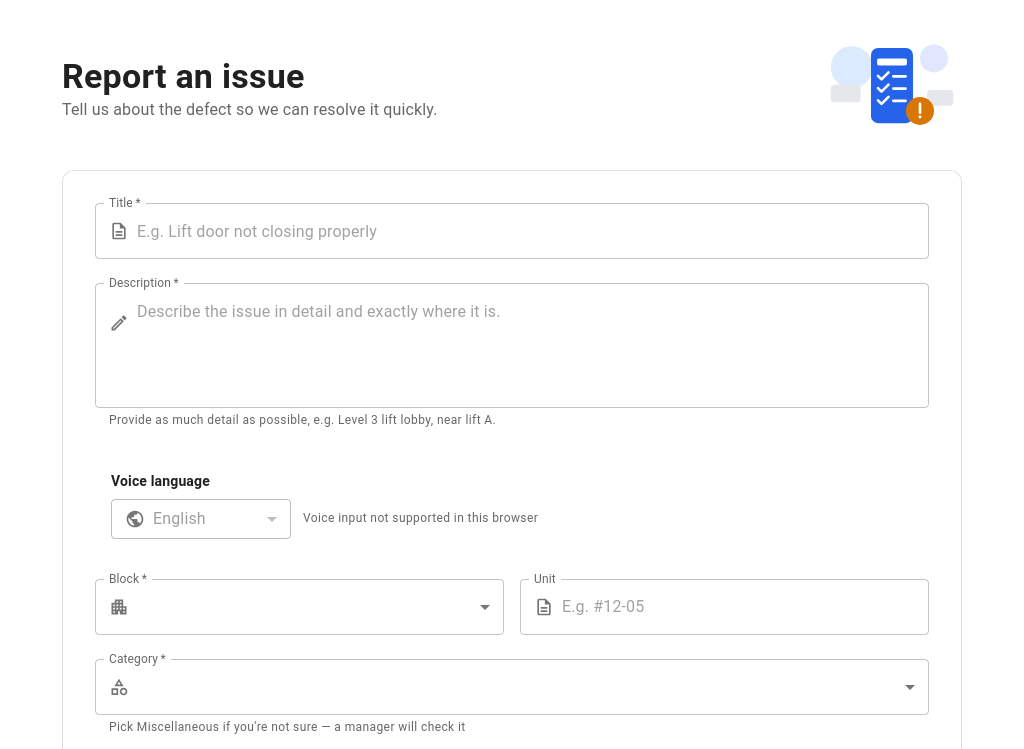
Test case: ReportIssuePage › validation › block alone is not enough — category is required too
In the field labelled "Title *": (533, 231) left=137, top=203, right=929, bottom=259, type "Cracked tile"
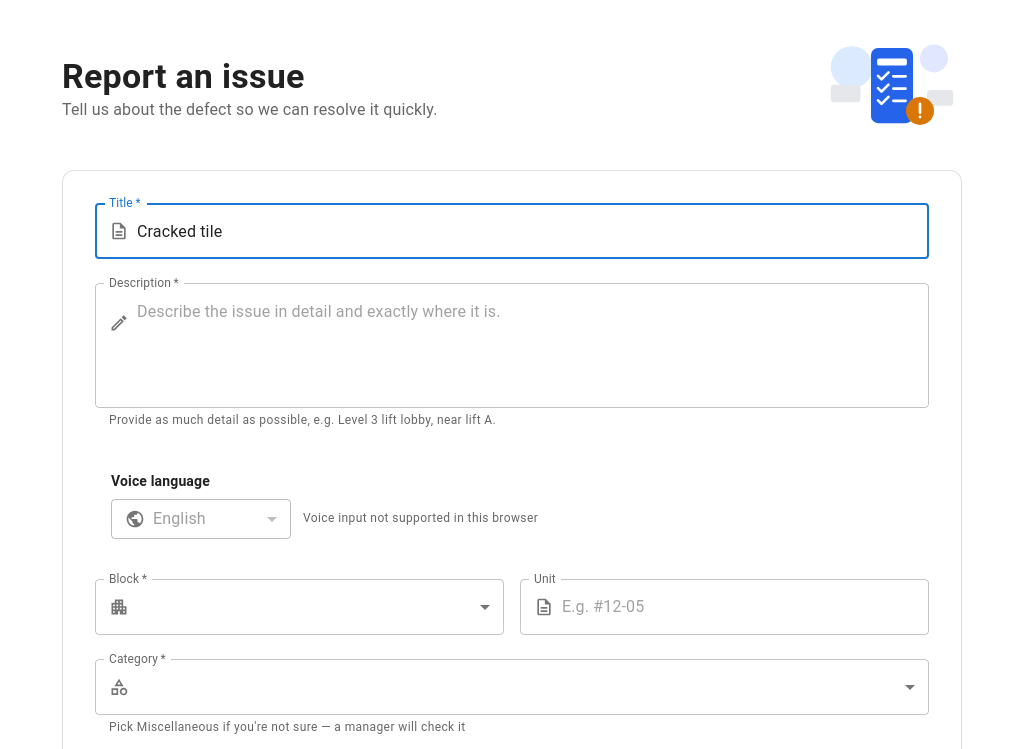
Click the dropdown named "Block" next to "Block": (320, 607) left=137, top=579, right=504, bottom=635
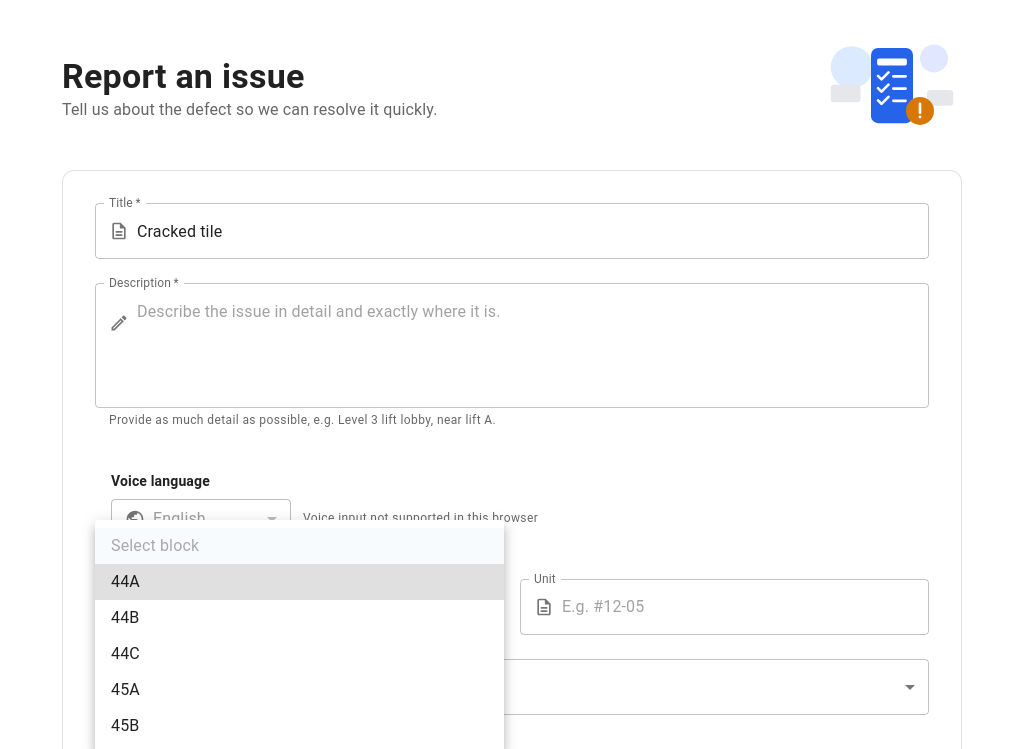
Click the option "44A": (125, 582) left=95, top=564, right=504, bottom=600
(page scrolled)
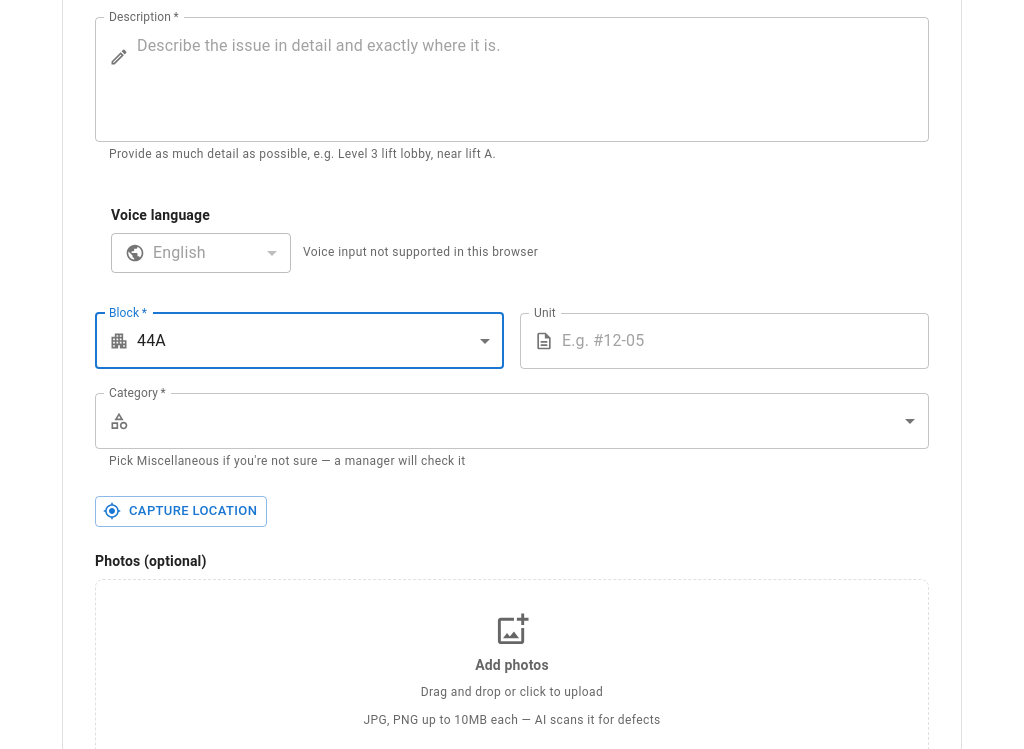
Submit the form
(page scrolled)
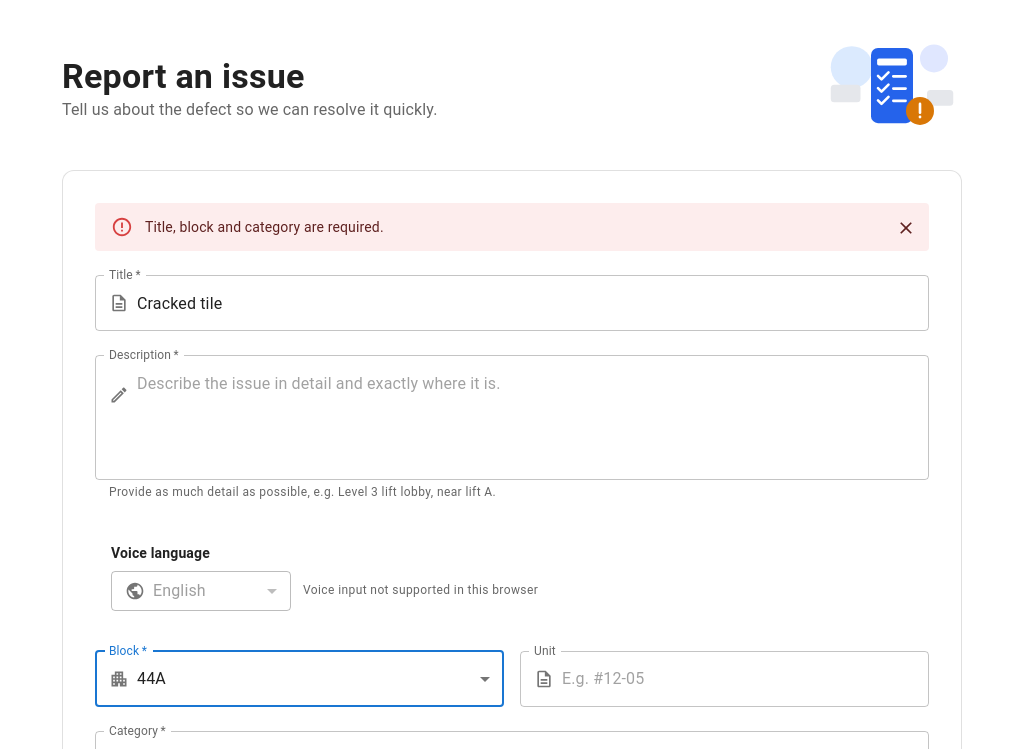
Now the text "Title, block and category are required." is shown, box left=145, top=219, right=384, bottom=235
